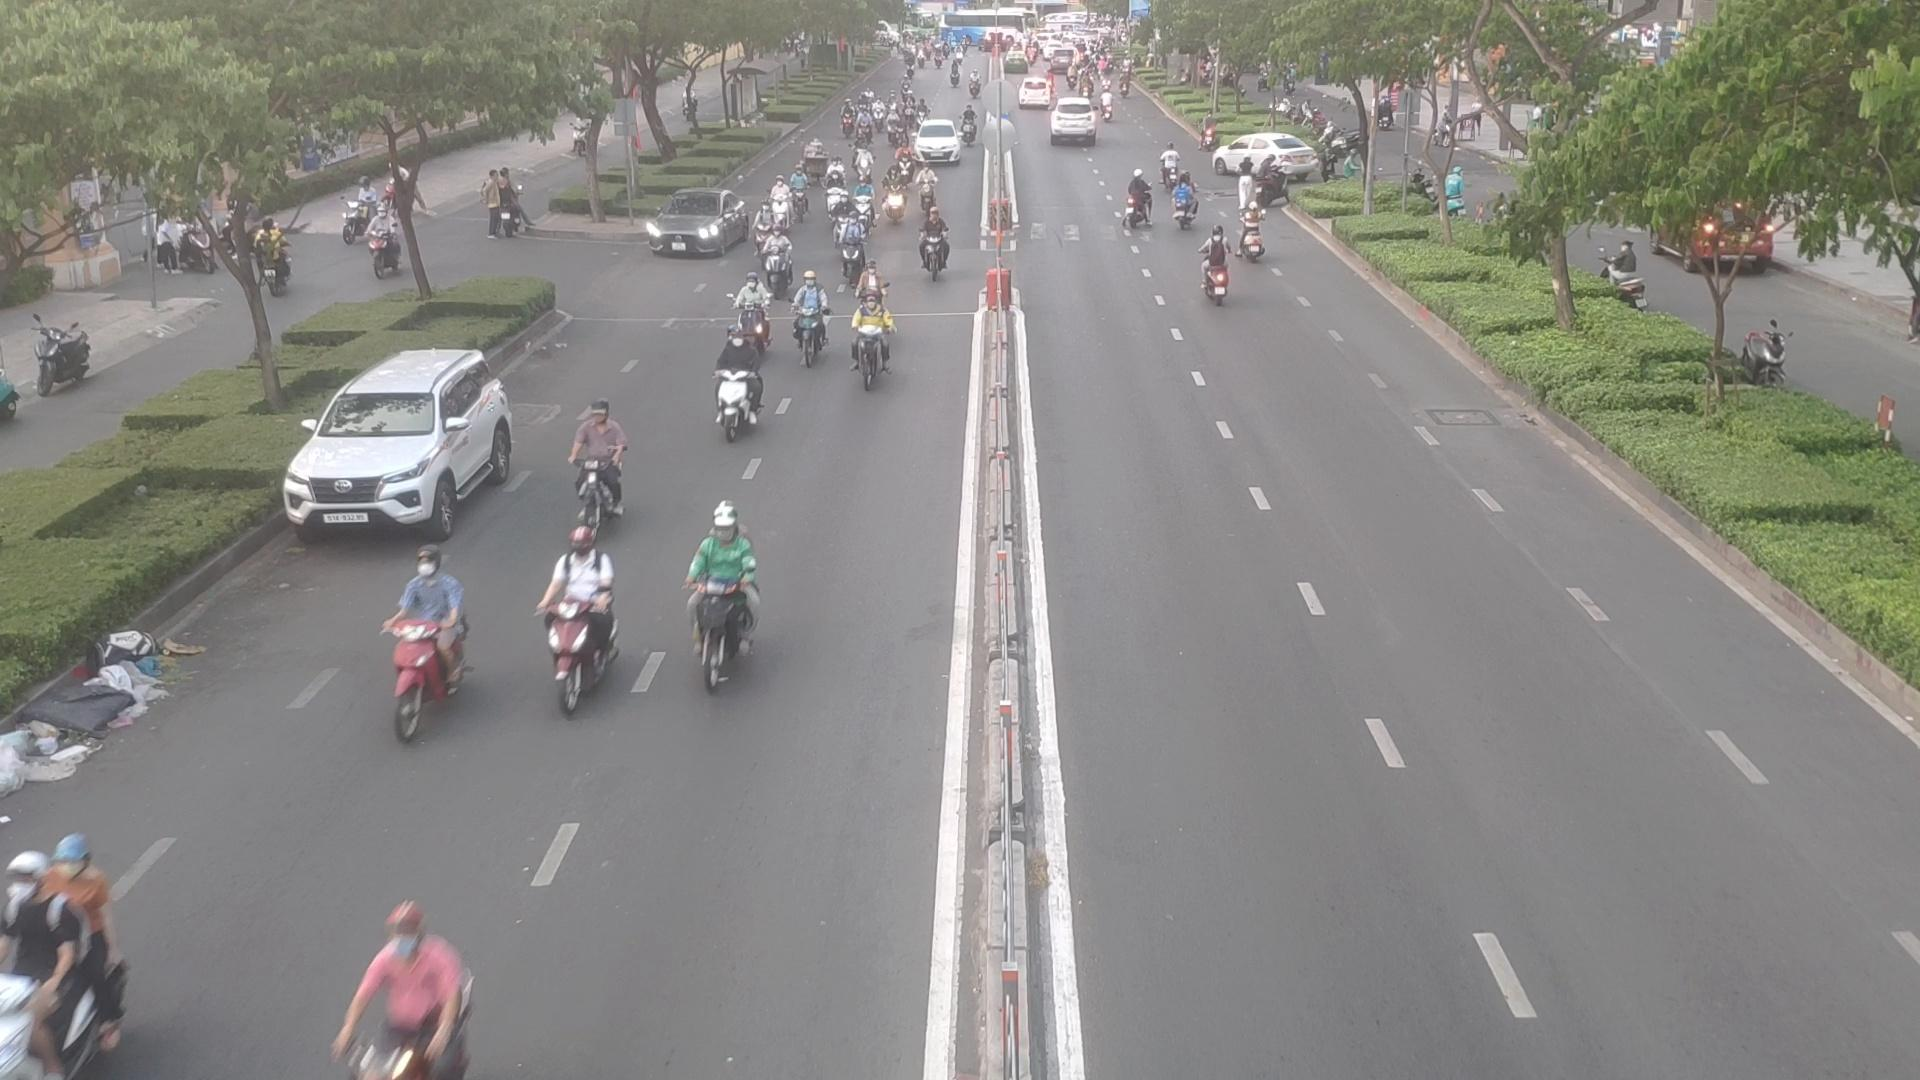car: (282, 345, 521, 538), (645, 193, 757, 260), (1217, 133, 1324, 183), (915, 123, 964, 164)
motorbike: (0, 831, 136, 1080), (320, 913, 473, 1080), (376, 556, 465, 728), (680, 512, 753, 695), (538, 535, 607, 702), (564, 409, 629, 531), (713, 326, 760, 440), (789, 276, 822, 367), (855, 294, 884, 389), (732, 278, 769, 352), (1199, 228, 1234, 298), (760, 229, 789, 291), (880, 166, 909, 225), (1124, 164, 1149, 229), (833, 222, 862, 278), (922, 210, 945, 278), (1241, 200, 1266, 262), (918, 164, 940, 214), (1178, 173, 1195, 225), (790, 170, 808, 218), (853, 178, 872, 225), (1160, 146, 1179, 189), (769, 185, 787, 222), (895, 144, 913, 183), (855, 145, 872, 182), (836, 195, 851, 239), (828, 173, 839, 214)
